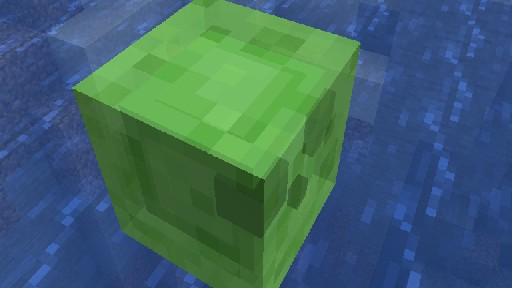slime: (71, 0, 361, 288)
